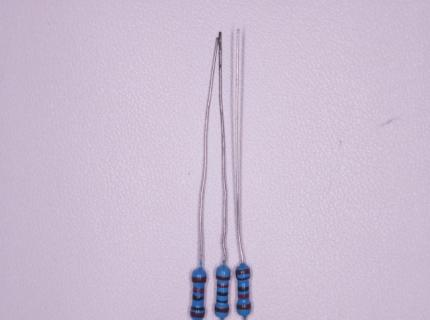Black band: (237, 275, 251, 282), (237, 286, 250, 292), (190, 306, 205, 311), (192, 295, 204, 301), (216, 298, 228, 304), (217, 291, 228, 296)
Brown band: (215, 305, 230, 314), (235, 268, 251, 276), (190, 311, 206, 319), (236, 303, 252, 310), (192, 276, 207, 283), (216, 275, 231, 281)
Red band: (192, 286, 204, 294), (238, 293, 250, 299), (217, 283, 229, 288)
